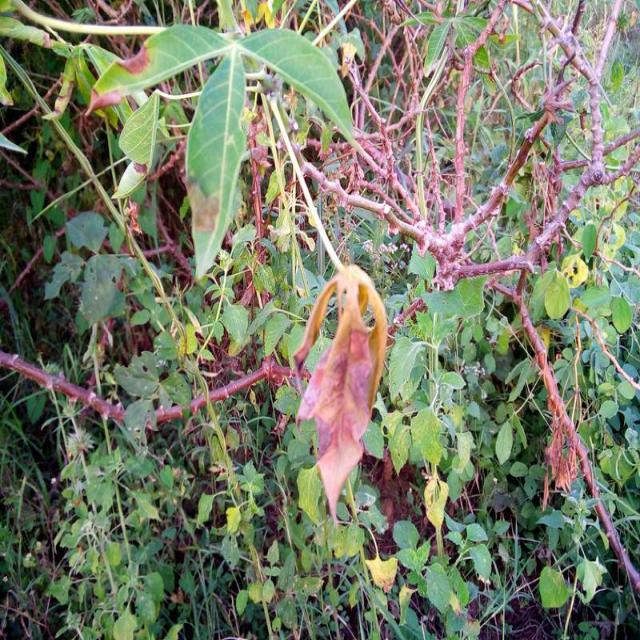cassava leaf: (86, 21, 360, 282), (183, 46, 249, 281)
